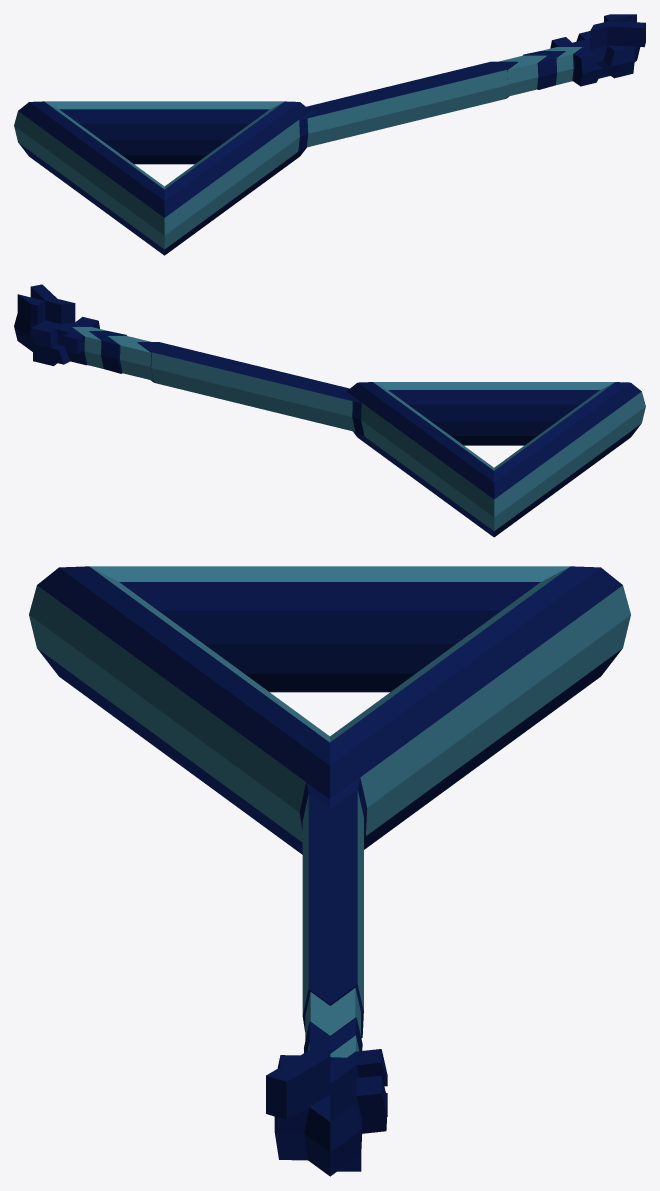
File: MazeKeyvvv5.glb
3 renders of one model, top to bottom at view 1: azimuth 30°, elevation 25°; view 2: azimuth 150°, elevation 25°; view 3: azimuth 270°, elevation 25°, orthographic. The views are drawn at different scales.
Visible parts, largest first — view 1: Torus; view 2: Torus; view 3: Torus.
Boxes of the visible parts, <box> form: Torus: <box>14,14,645,255</box>; Torus: <box>14,284,645,537</box>; Torus: <box>29,566,630,1176</box>.
Size of the model in its own units: 4.58 by 0.5097 by 2.17.
